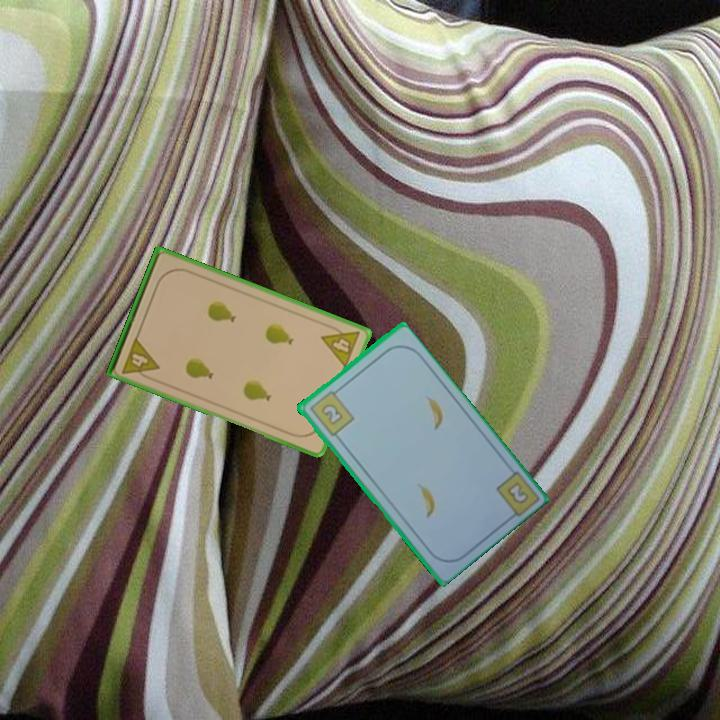2b: (305, 385, 357, 439), (503, 478, 531, 507)
4p: (318, 320, 363, 371), (118, 333, 162, 383)
